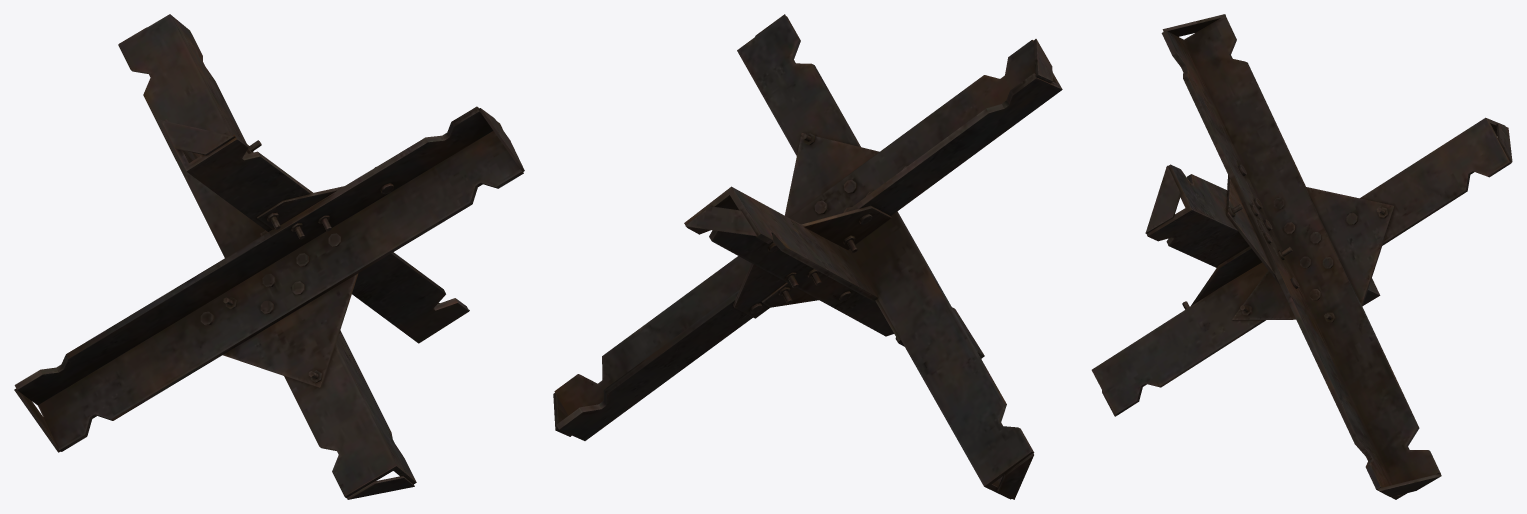
File: hedgehog.glb
3 views of the same model, side by side, from view 1: azimuth 30°, elevation 25°; view 2: azimuth 150°, elevation 25°; view 3: azimuth 270°, elevation 25° (orthographic). The views are drawn at different scales.
Parts seen in each view (by area): view 1: hedgehog; view 2: hedgehog; view 3: hedgehog.
Boxes of the visible parts, box(x1,y1,x2,y2) form: hedgehog: box(14, 14, 524, 499); hedgehog: box(553, 14, 1062, 499); hedgehog: box(1091, 14, 1512, 499).
Bounding box in the file's own units: 2.1 × 1.64 × 1.87.
Materials: 1 (1 with a texture image).
